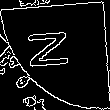N_E: (29, 33, 81, 77)
